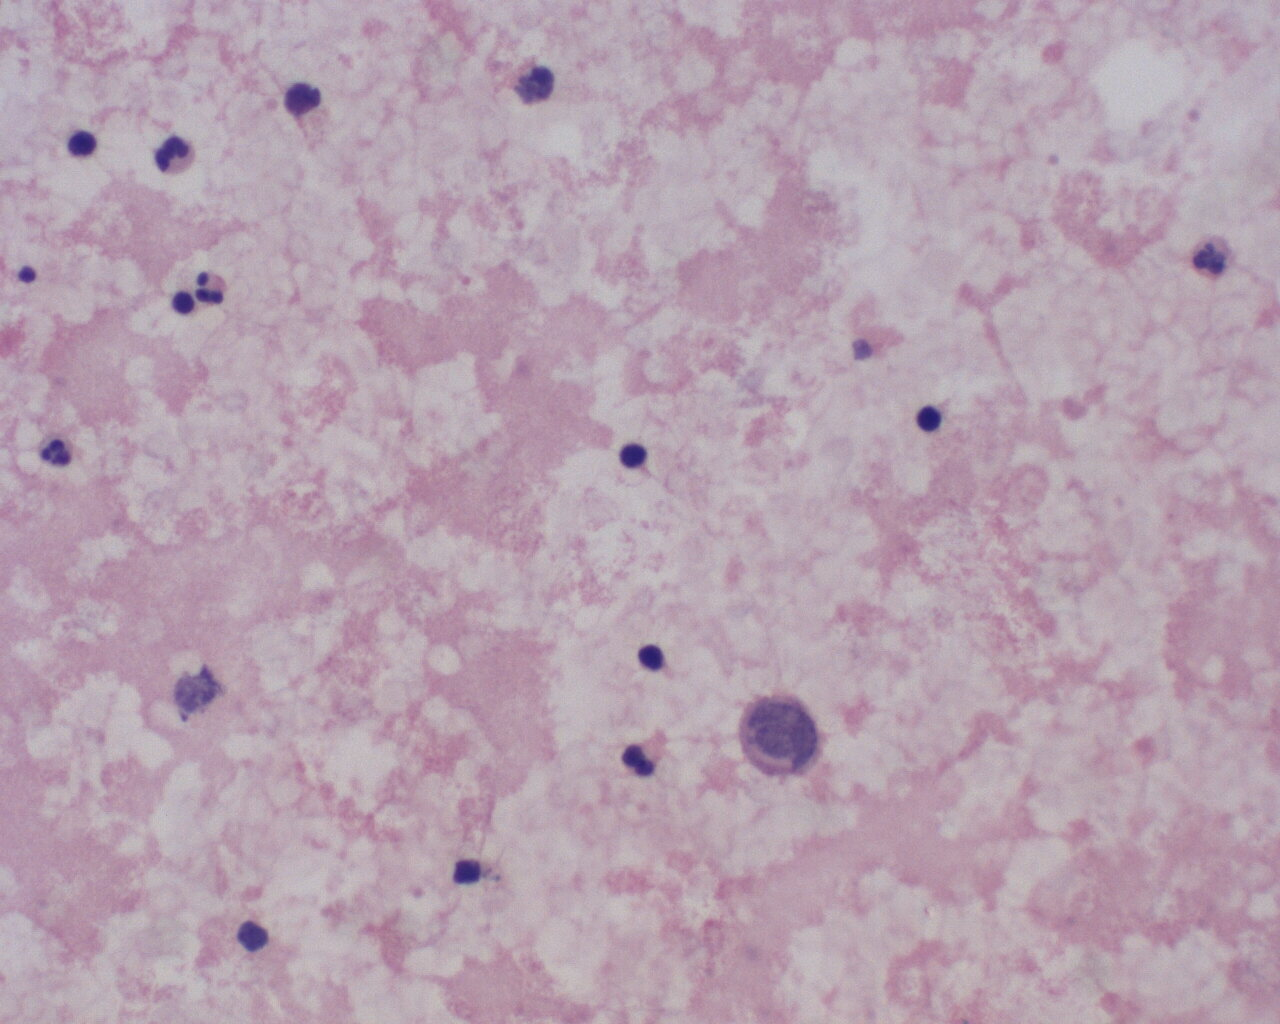ab: (732, 683, 830, 789)
lymph: (616, 435, 652, 476), (911, 397, 950, 434), (632, 636, 668, 676), (63, 126, 102, 162)
neutro: (32, 426, 80, 470), (153, 132, 197, 178), (191, 266, 230, 307)
